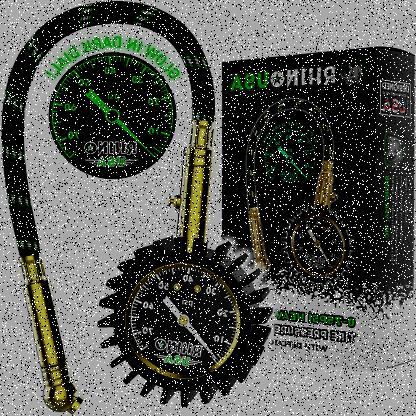needle: (115, 118, 157, 159), (183, 321, 218, 361), (289, 160, 309, 181)
